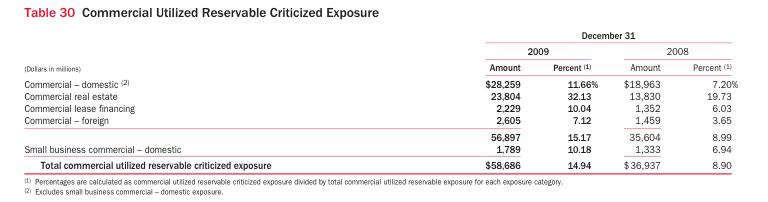table: (23, 28, 737, 170)
table column: (23, 28, 377, 170), (377, 28, 535, 170), (535, 28, 610, 170), (610, 28, 676, 170), (676, 28, 737, 170)
table column header: (23, 28, 737, 74)
table row: (23, 42, 737, 58), (23, 58, 737, 74), (23, 74, 737, 89), (23, 127, 737, 142), (23, 28, 737, 42), (23, 113, 737, 127), (23, 142, 737, 156), (23, 156, 737, 170), (23, 89, 737, 101), (23, 101, 737, 113)
table spanning cell: (23, 28, 377, 74), (377, 28, 737, 42), (377, 42, 610, 58), (610, 42, 737, 58)
